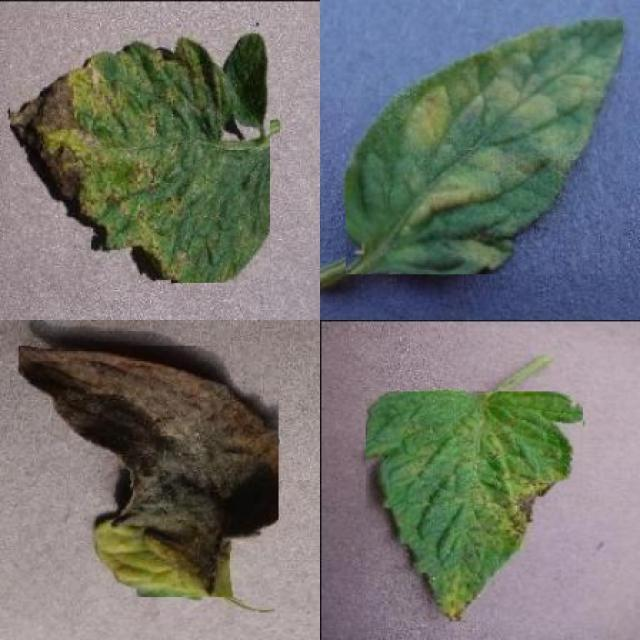Late Blight: (18, 346, 278, 598)
Leaf Mold: (346, 18, 624, 275)
Septoria: (10, 30, 270, 283), (366, 392, 584, 622)
